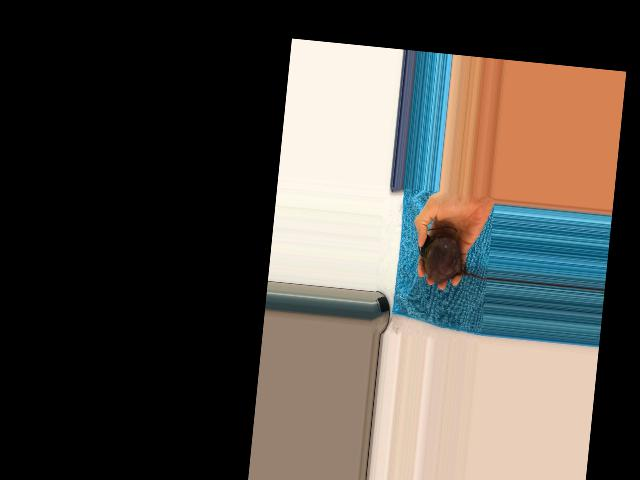beet: (414, 224, 492, 287)
